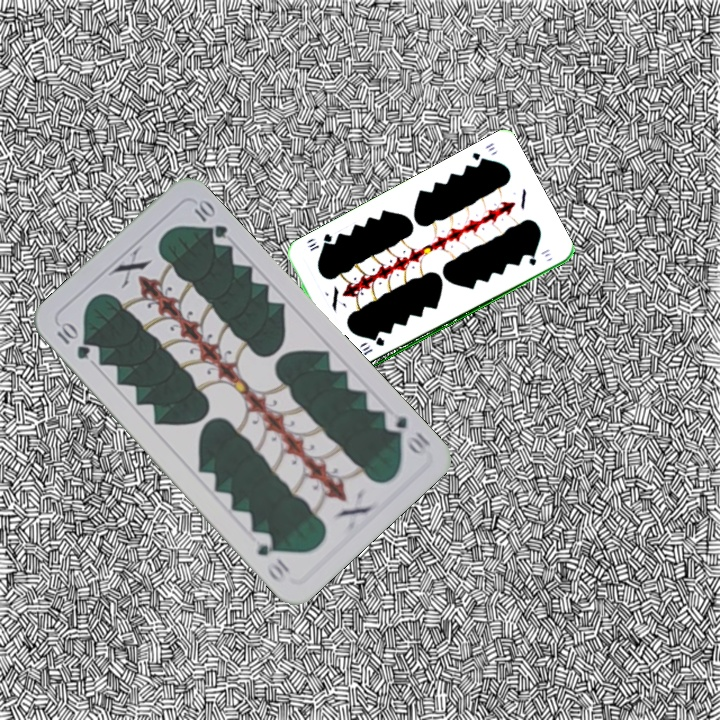G10: (379, 411, 434, 458), (52, 318, 93, 362), (468, 139, 497, 167), (359, 335, 387, 358)
